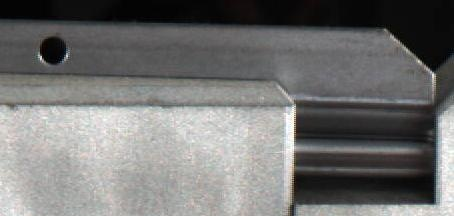cut: (311, 25, 448, 203)
holes: (35, 31, 69, 67)
